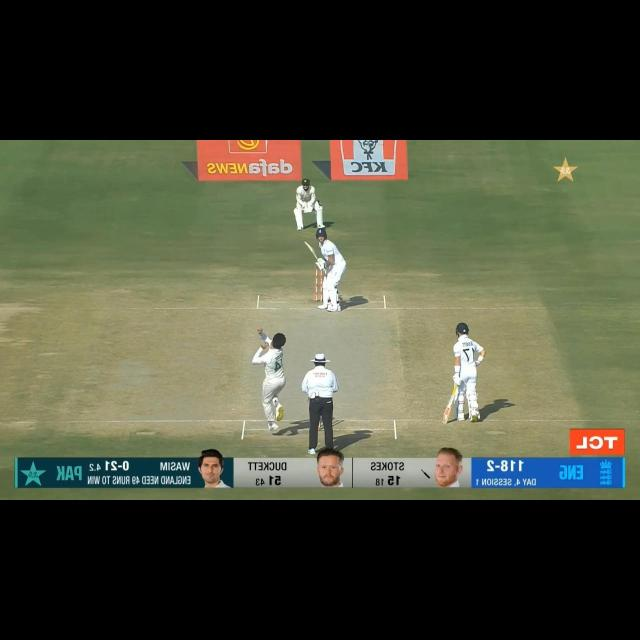bat: (441, 394, 455, 424), (303, 241, 319, 261)
toe: (442, 416, 451, 425), (303, 241, 310, 248)
